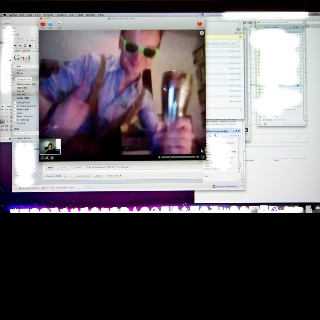without_mask: (121, 31, 159, 73)
